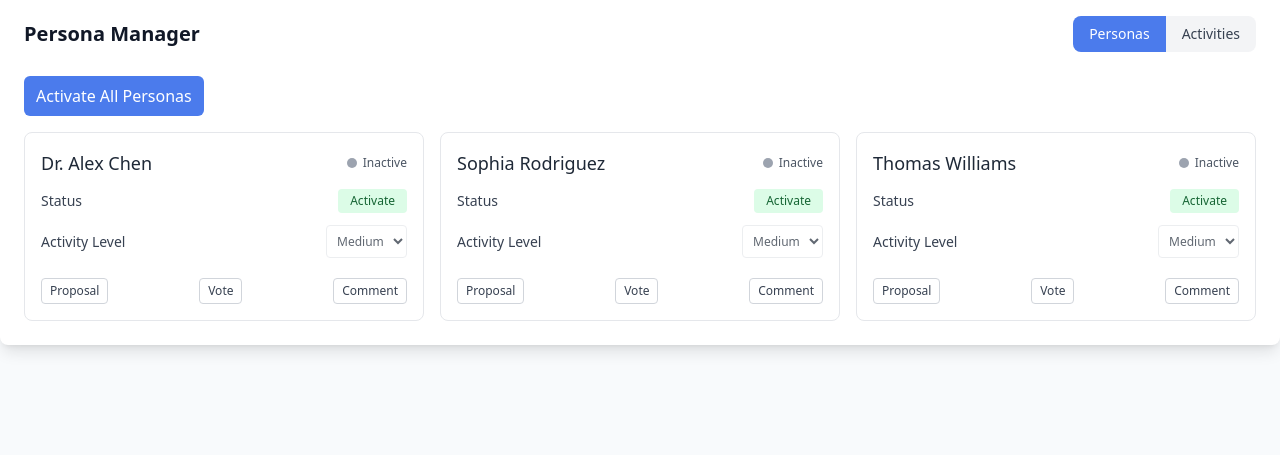
Scenario: PersonaController › generates a proposal when button is clicked
This screenshot has width=1280, height=455.
Expected: the heading "Dr. Alex Chen" is shown, [41, 149, 152, 177]
// Click the proposal button for the first persona
Click the button "Proposal" below "Dr. Alex Chen": (75, 291) [41, 278, 108, 304]
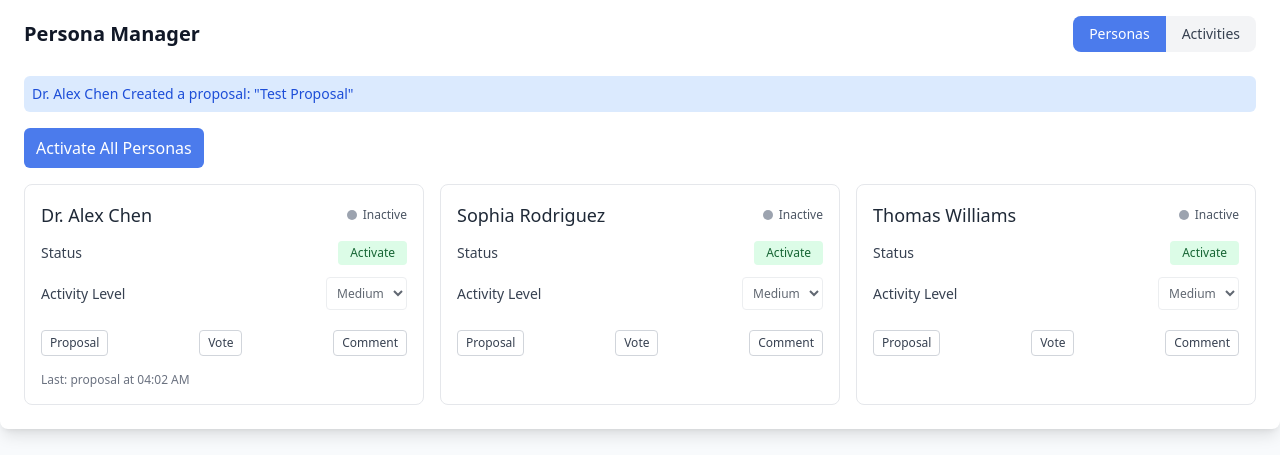
Expected: the text "Dr. Alex Chen Created a proposal: \"Test Proposal\"" is shown, [24, 76, 1256, 112]
